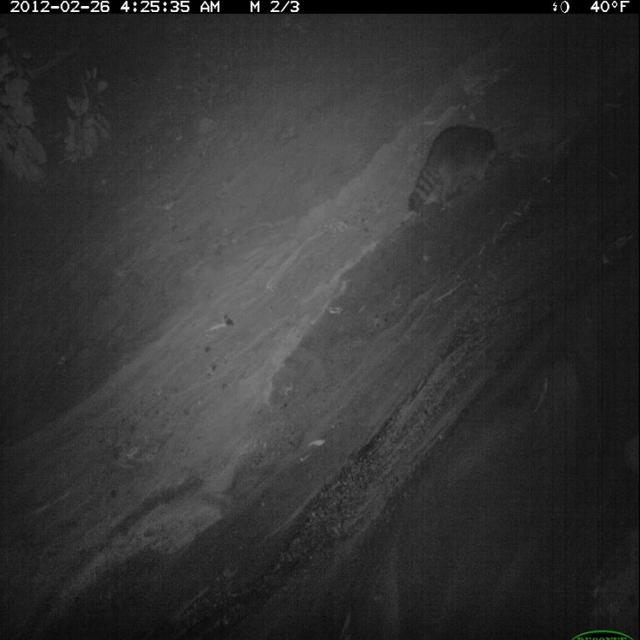raccoon: (405, 120, 505, 219)
